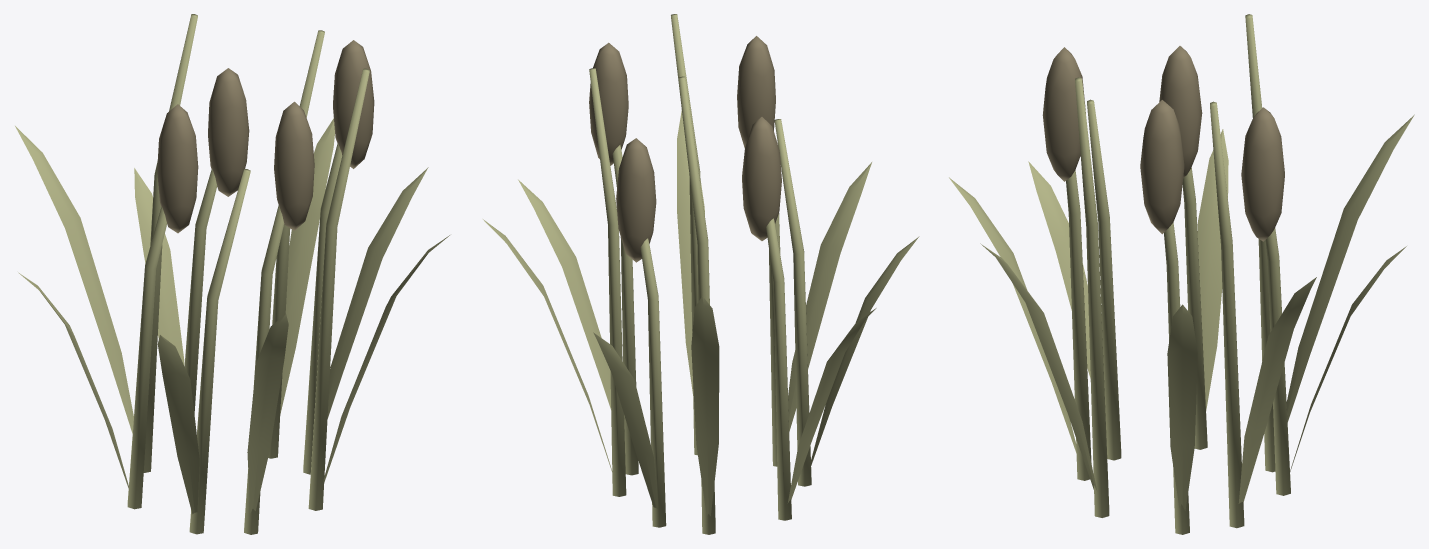
File: SM_Reeds.fbx
3 views of the same model, side by side, from view 1: azimuth 30°, elevation 25°; view 2: azimuth 150°, elevation 25°; view 3: azimuth 270°, elevation 25° (orthographic). The views are drawn at different scales.
Visible parts, largest first — view 1: SM_Reeds; view 2: SM_Reeds; view 3: SM_Reeds.
Part boxes in pixels (bbox=[...]): SM_Reeds: bbox=[15, 14, 449, 534]; SM_Reeds: bbox=[483, 14, 919, 534]; SM_Reeds: bbox=[949, 14, 1414, 534].
Size of the model in its own units: 140 by 138 by 155.
